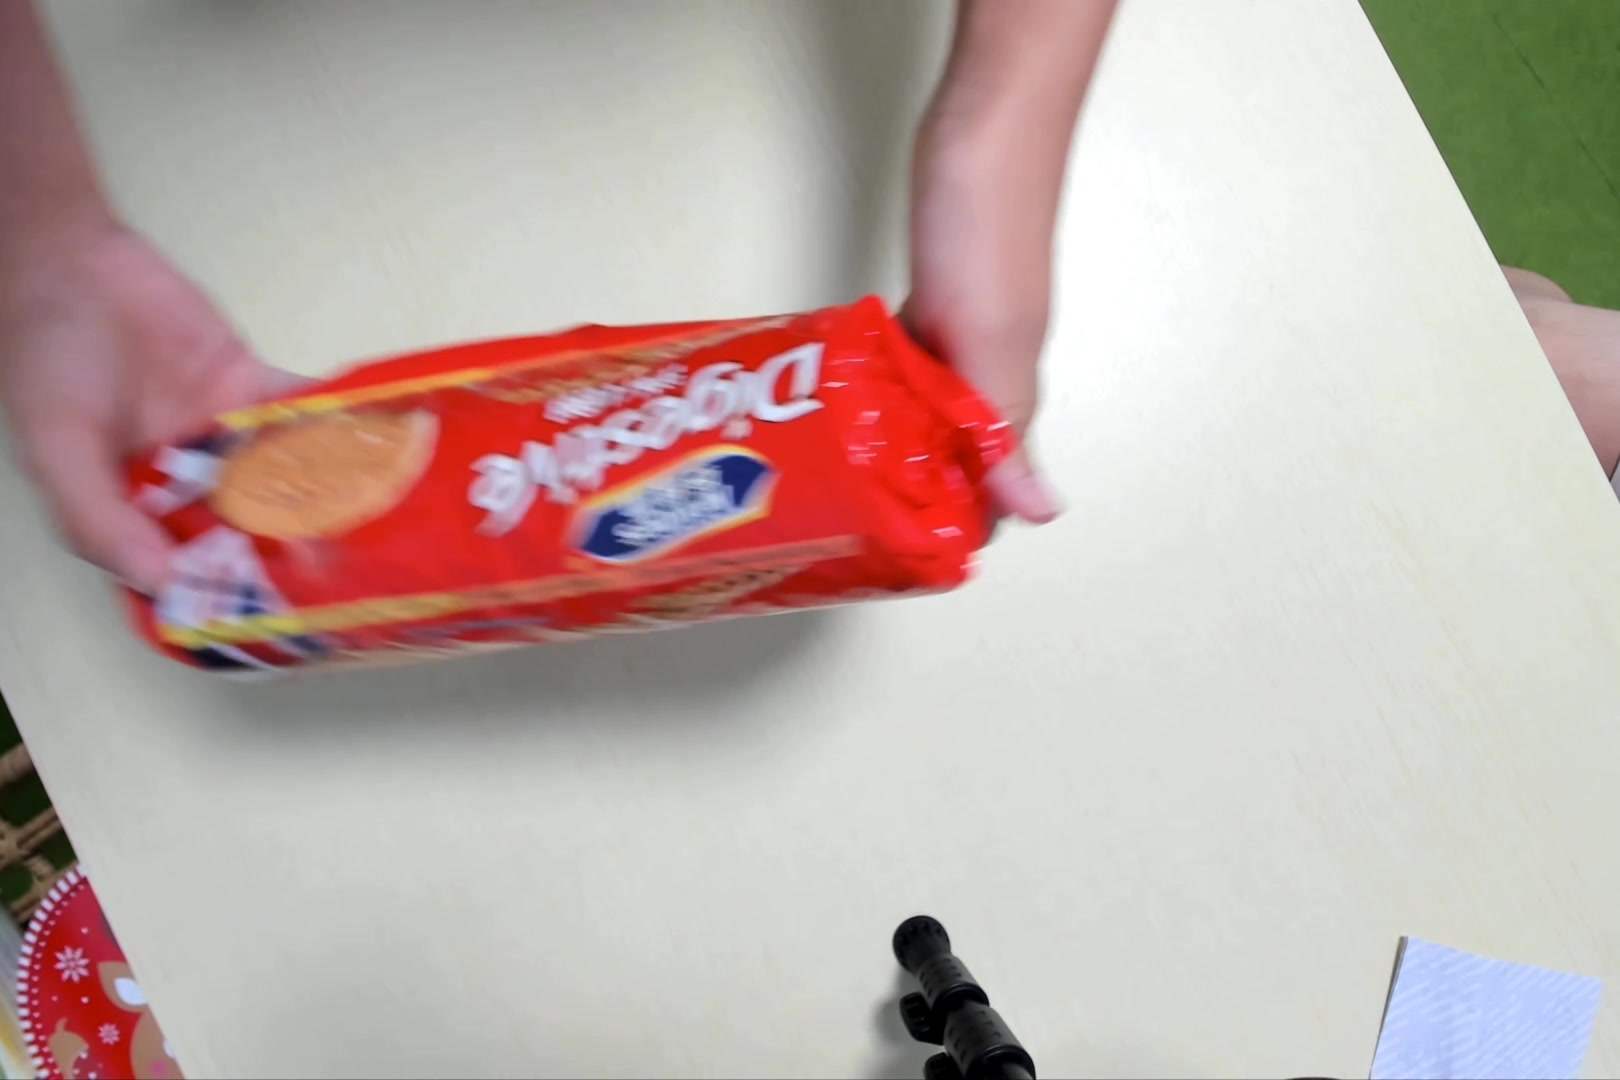BiscuitsCrackersCookies_400-499g_NonHalal_NonHealthy: (137, 311, 999, 657)
